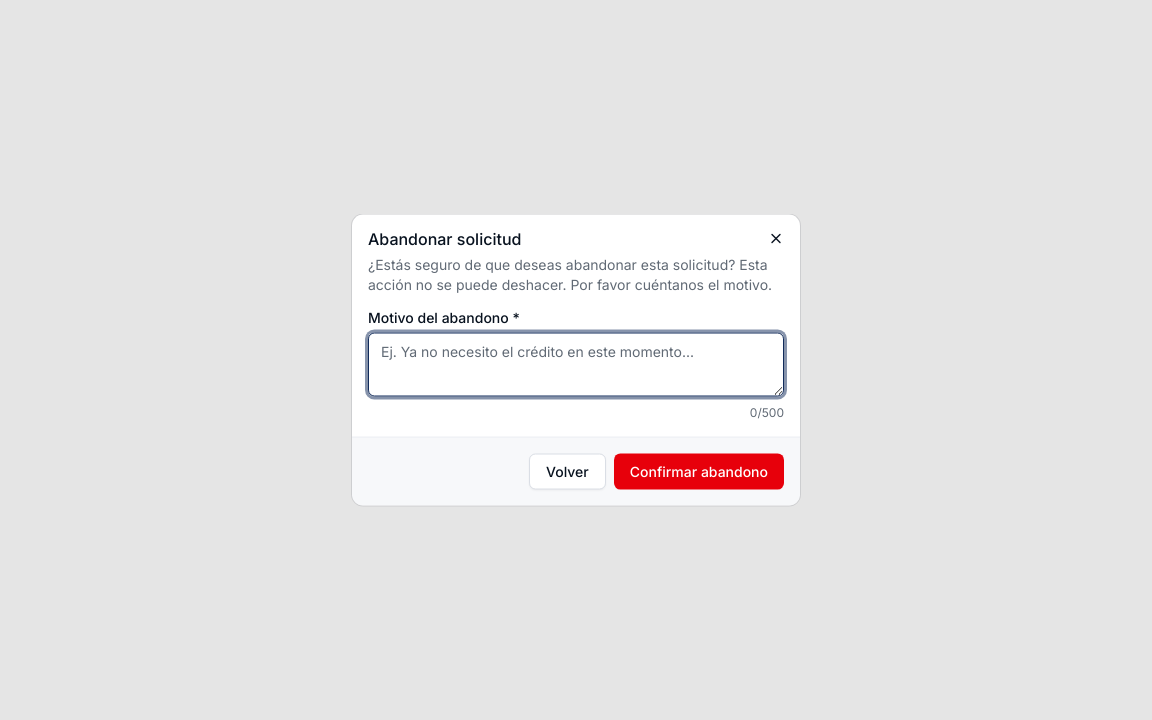
Test case: AbandonDialog — validación del motivo › muestra error de validación cuando se confirma sin motivo
Click the button "Confirmar abandono" at (699, 472), box [614,454,784,490]
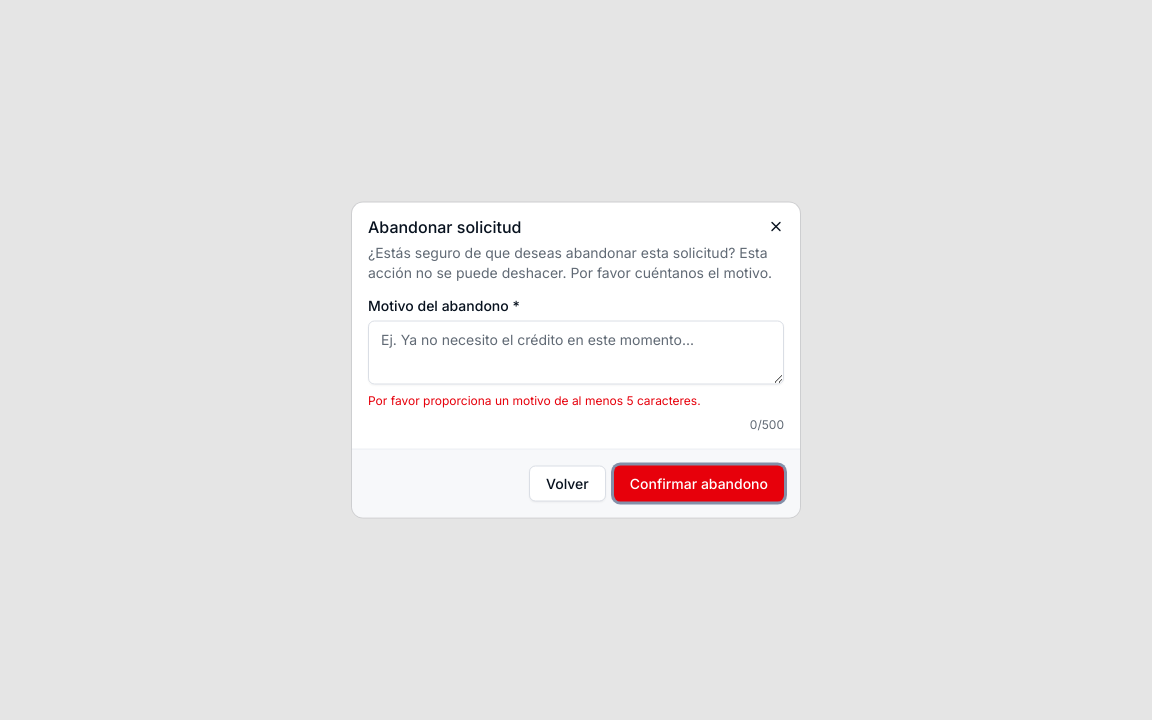
Expected: the message "Por favor proporciona un motivo de al menos 5 caracteres." is shown, [368,392,701,408]
